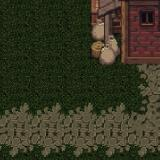Obstacle: (62, 0, 159, 99)
